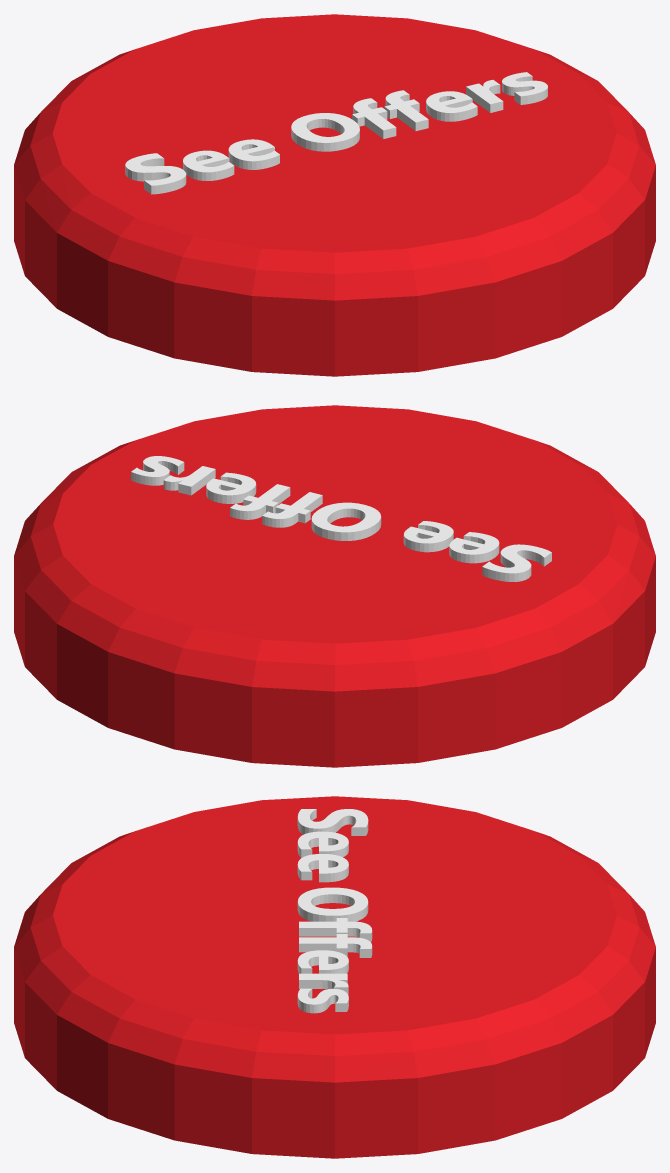
Rendered from buttonTime.glb.
3 views of the same model, one above another, from view 1: azimuth 30°, elevation 25°; view 2: azimuth 150°, elevation 25°; view 3: azimuth 270°, elevation 25° (orthographic).
Size of the model in its own units: 0.1294 by 0.0259 by 0.1294.
